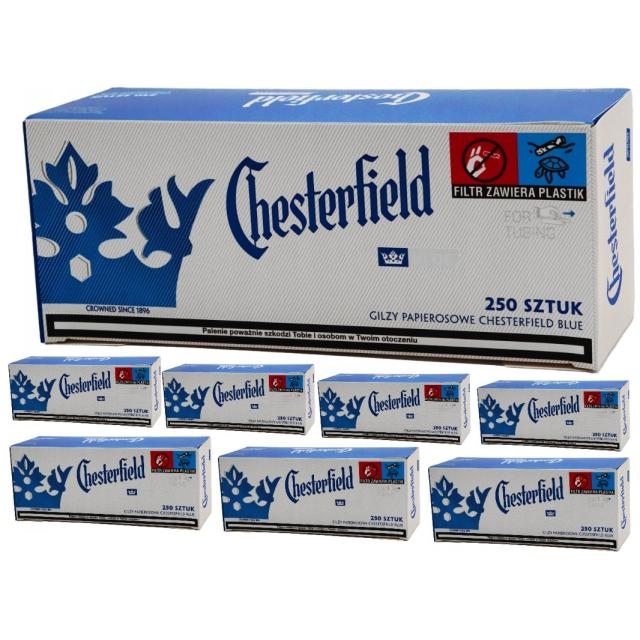chesterfield: (24, 74, 636, 365), (9, 436, 213, 536), (430, 454, 634, 550), (219, 444, 418, 542), (475, 376, 635, 450), (161, 360, 311, 434), (317, 370, 471, 440), (8, 363, 160, 428)
